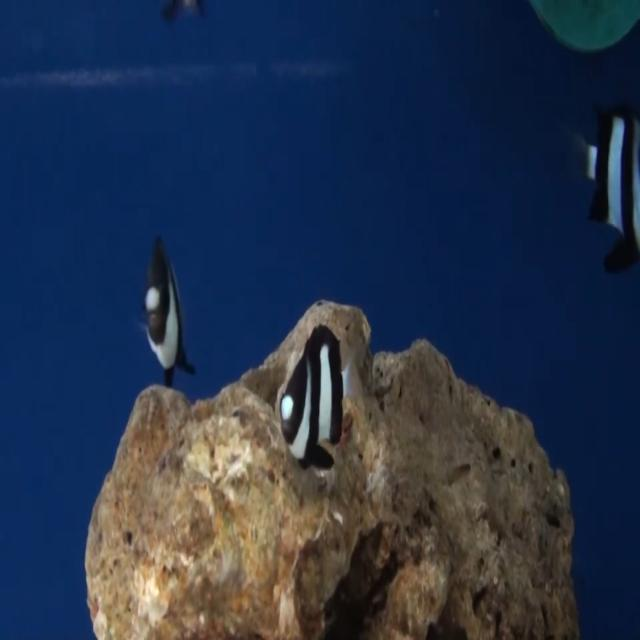ThreeStripedDamselfish: (275, 325, 363, 473), (144, 236, 196, 389)
